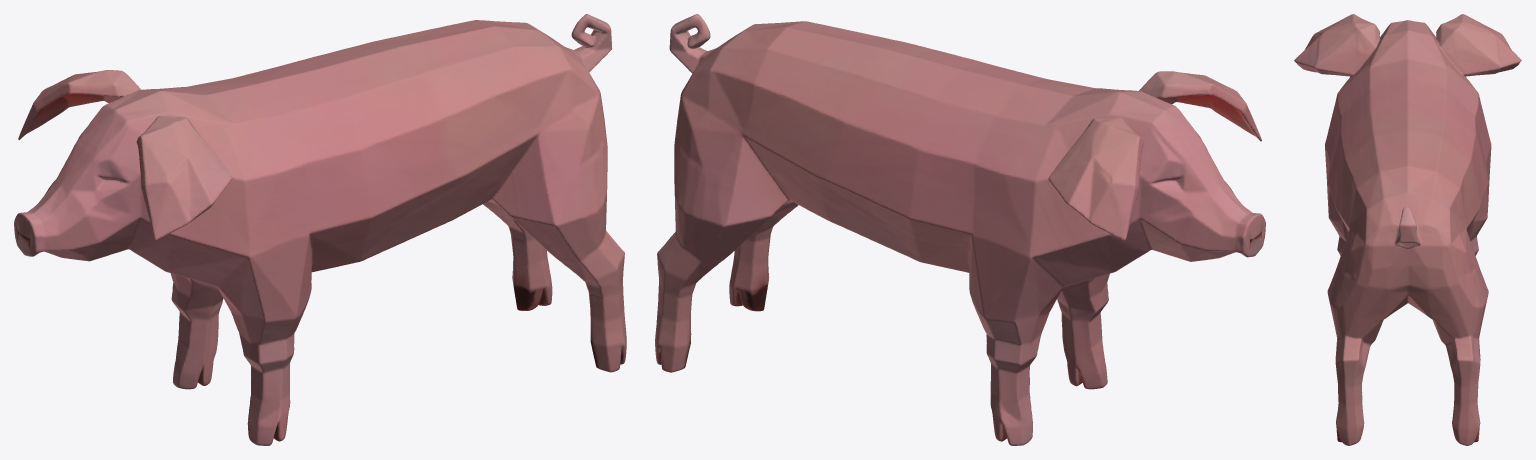
The model's file is pink pig 3d model.glb.
3 views of the same model, side by side, from view 1: azimuth 30°, elevation 25°; view 2: azimuth 150°, elevation 25°; view 3: azimuth 270°, elevation 25° (orthographic). The views are drawn at different scales.
Visible parts, largest first — view 1: tripo_node_1deb85fe-ab45-498e-9b6c-15a0cfc033c7; view 2: tripo_node_1deb85fe-ab45-498e-9b6c-15a0cfc033c7; view 3: tripo_node_1deb85fe-ab45-498e-9b6c-15a0cfc033c7.
Part boxes in pixels (x1,y1,x2,y2): tripo_node_1deb85fe-ab45-498e-9b6c-15a0cfc033c7: (14,14,626,445); tripo_node_1deb85fe-ab45-498e-9b6c-15a0cfc033c7: (655,14,1265,445); tripo_node_1deb85fe-ab45-498e-9b6c-15a0cfc033c7: (1294,14,1521,445).
Bounding box in the file's own units: 1 × 0.5662 × 0.4474.
1 material, 1 textured.
